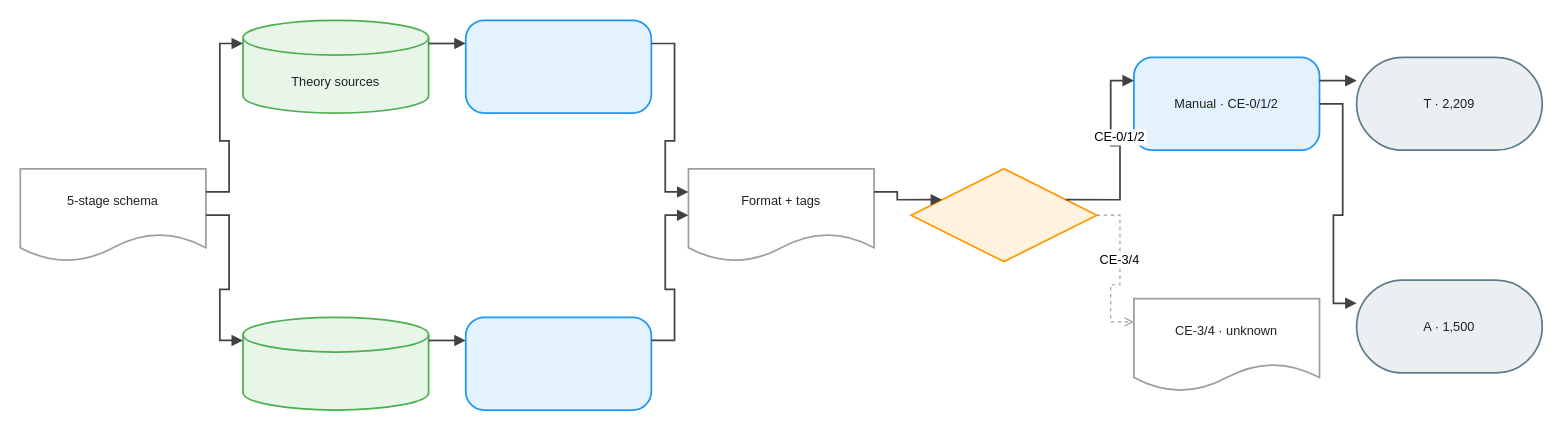
The diagram is 1564 pixels wide and 432 high, and some of its shapes have lost their labels. The centre of each missing label's shape, as x and y in pixels:
"App sources" belongs at [335,363].
"Gen + annotate" belongs at [558,363].
"GPT-4 CE bucket?" belongs at [1003,214].
"Theory to MCQ" belongs at [558,66].
